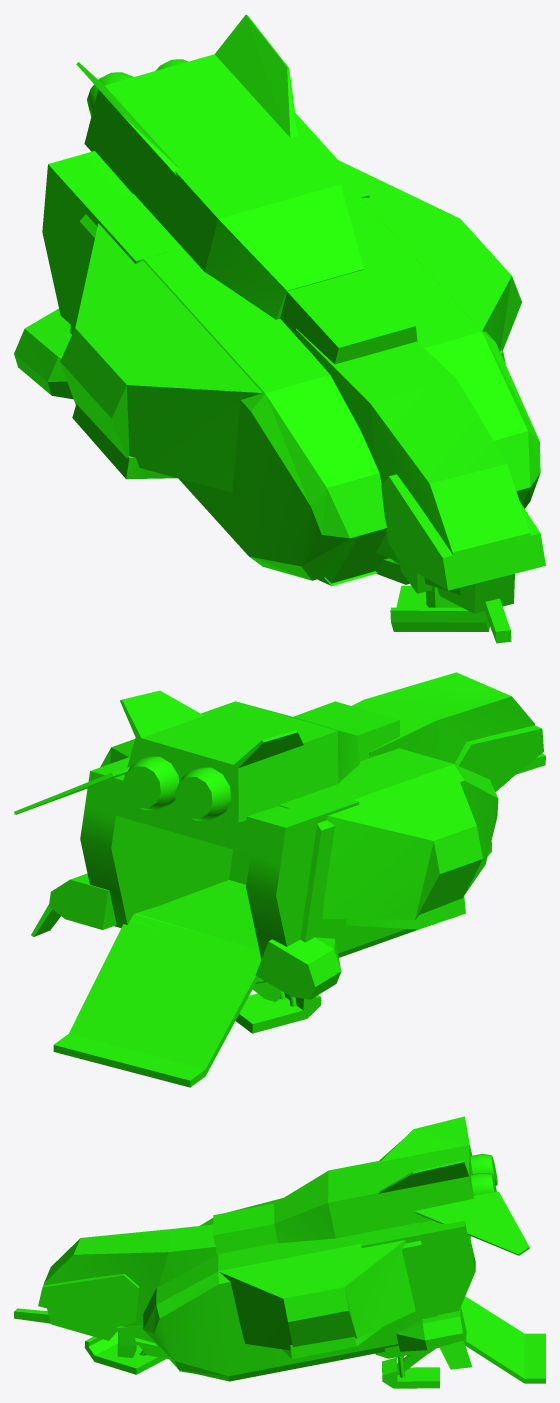
The model's file is dropship_crashed_physics.DAE.
3 views of the same model, one above another, from view 1: azimuth 30°, elevation 25°; view 2: azimuth 150°, elevation 25°; view 3: azimuth 270°, elevation 25° (orthographic). The views are drawn at different scales.
Visible parts, largest first — view 1: Object16, Box04, Box27, Object24, Object28, Object15, Object26, Box13, Object27, Box20, Box12, Box11 (+11 smaller); view 2: Object31, Box27, Object16, Object13, Object27, Box04, Object24, Box23, Object23, Object29, Object20, Box12 (+16 smaller); view 3: Object26, Box13, Object16, Object24, Object13, Box12, Object21, Object14, Object15, Object31, Box20, Box11 (+16 smaller).
Part boxes in pixels (x1,y1,x2,y2): Object16: [84, 54, 339, 271]; Box04: [70, 197, 359, 580]; Box27: [75, 223, 262, 492]; Object24: [370, 379, 535, 587]; Object28: [122, 193, 507, 482]; Object15: [205, 184, 364, 319]; Object26: [305, 143, 540, 508]; Box13: [338, 160, 511, 351]; Object27: [42, 154, 167, 324]; Box20: [280, 269, 417, 364]; Box12: [381, 474, 545, 590]; Box11: [295, 328, 456, 556]; Object31: [69, 914, 261, 1075]; Box27: [322, 765, 476, 919]; Object16: [121, 701, 338, 822]; Object13: [80, 757, 182, 927]; Object27: [246, 794, 359, 959]; Box04: [289, 757, 498, 957]; Object24: [364, 672, 534, 763]; Box23: [255, 937, 341, 999]; Object23: [415, 826, 482, 919]; Object29: [158, 880, 258, 949]; Object20: [116, 779, 287, 854]; Box12: [455, 725, 543, 791]; Object26: [143, 1225, 437, 1381]; Box13: [219, 1240, 415, 1350]; Object16: [328, 1144, 473, 1238]; Object24: [43, 1229, 169, 1326]; Object13: [361, 1220, 475, 1353]; Box12: [38, 1274, 139, 1326]; Object21: [414, 1191, 529, 1255]; Object14: [283, 1287, 356, 1346]; Object15: [274, 1170, 335, 1243]; Object31: [461, 1296, 524, 1383]; Box20: [213, 1204, 277, 1254]; Box11: [158, 1224, 216, 1286].
Bounding box in the file's own units: 299 × 568 × 264.
